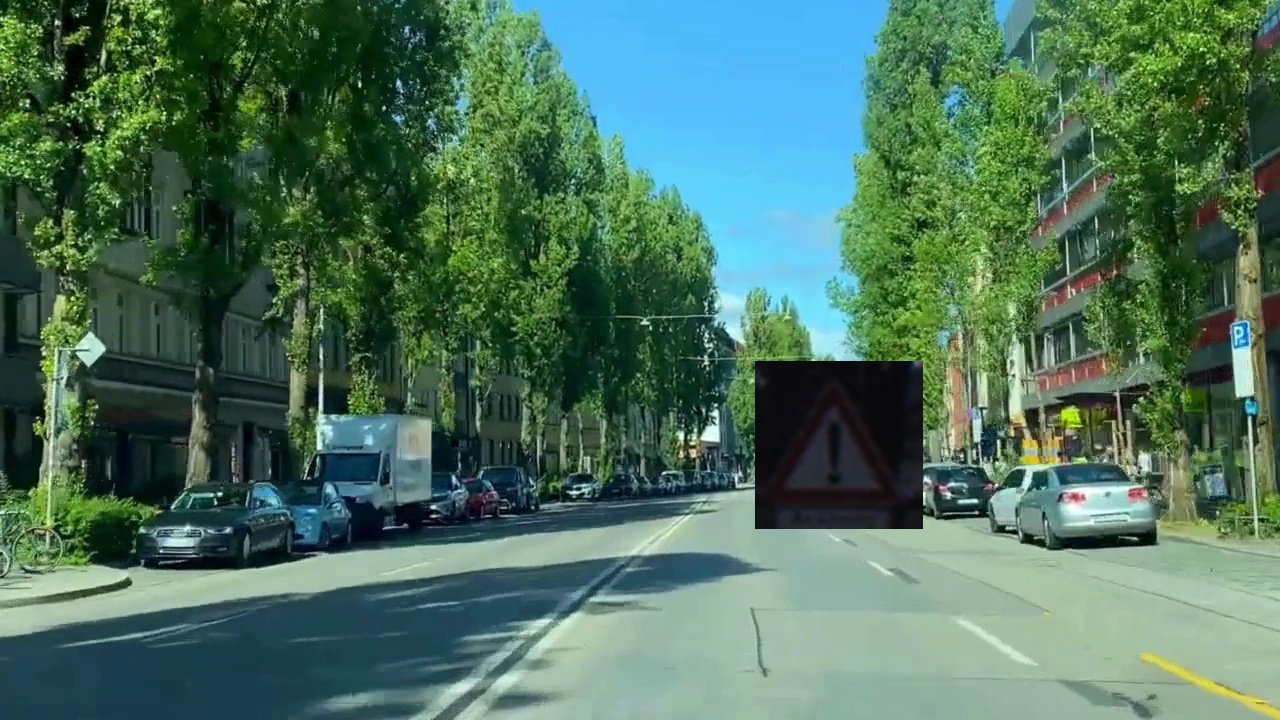Caution: (755, 361, 923, 529)
